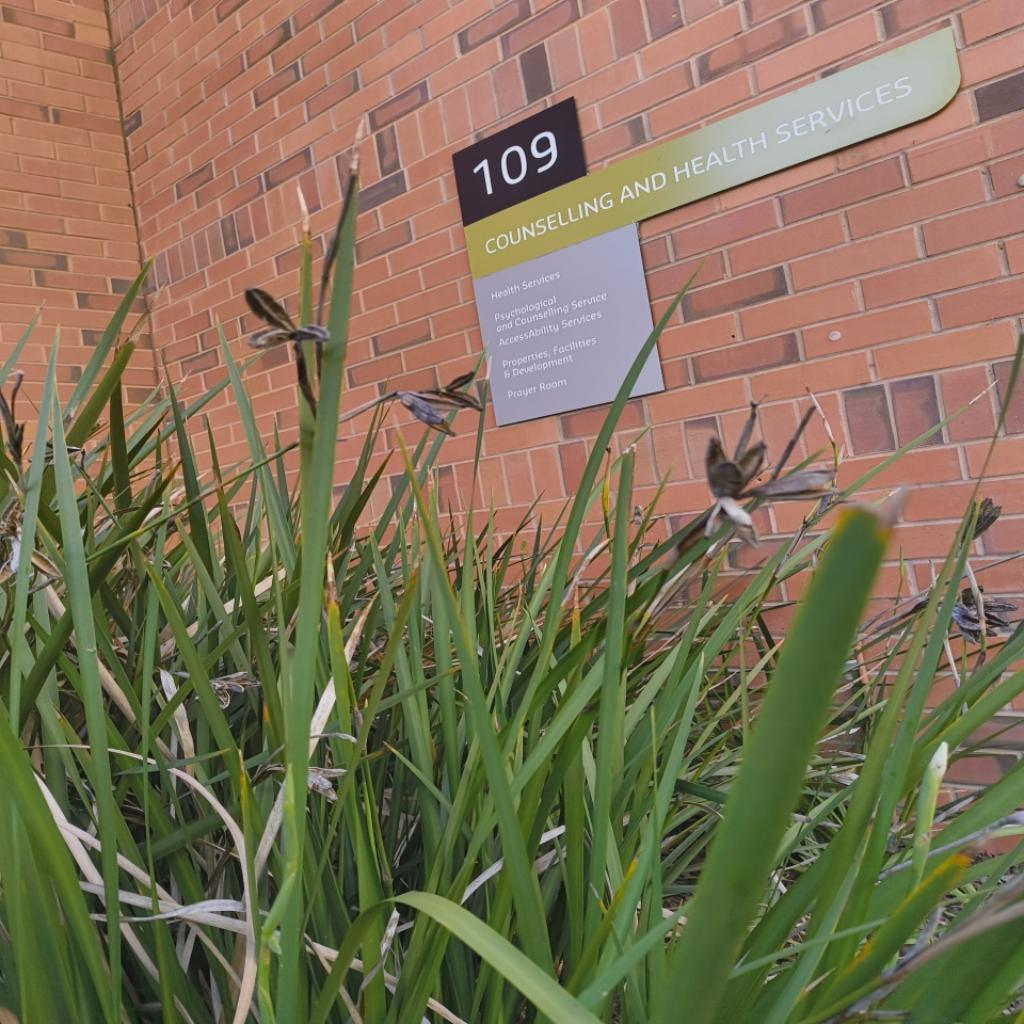BuildingCodes: (468, 128, 562, 198)
